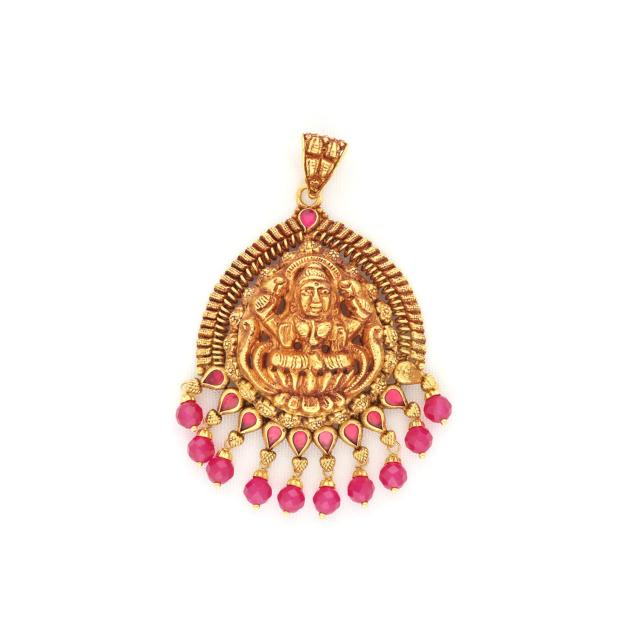missing gem: (397, 363, 422, 380)
